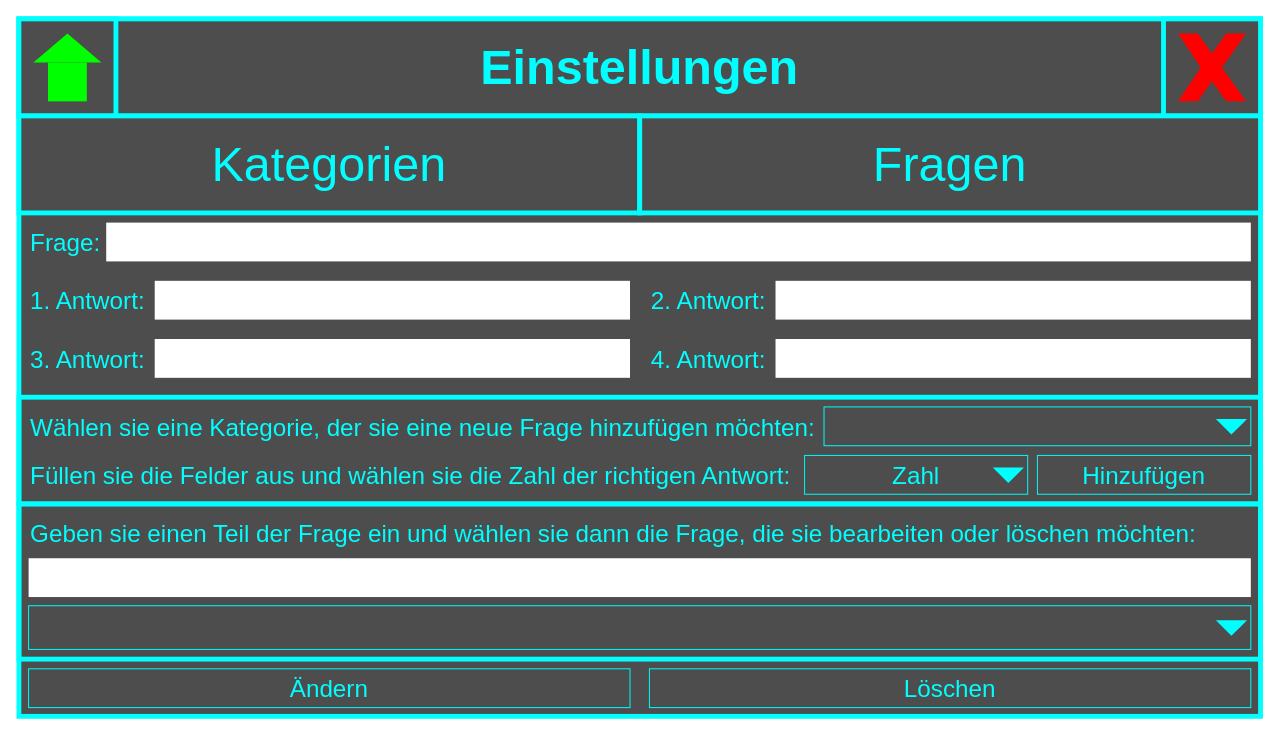
The diagram is 1279 pixels wide and 735 high, and some of its shapes have lost their labels. The centre of each missing label's shape, as x and y in pixels:
"Frage" goes at point 639,627.
"Kategorie" goes at point 1037,426.
